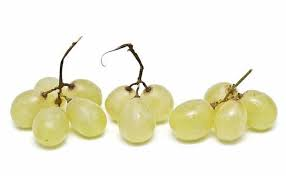Green grapes: (174, 79, 277, 147), (34, 77, 106, 137), (108, 77, 169, 142)
